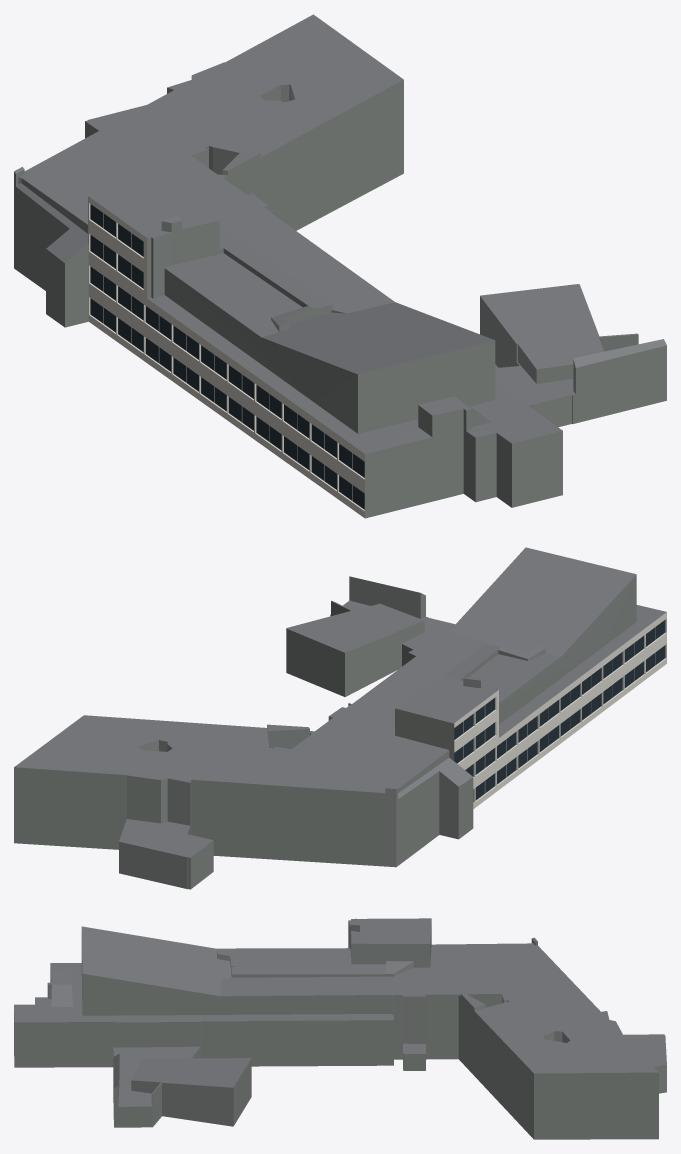
The model's file is recipe-large-reade.glb.
3 renders of one model, top to bottom at view 1: azimuth 30°, elevation 25°; view 2: azimuth 150°, elevation 25°; view 3: azimuth 270°, elevation 25°, orthographic. The views are drawn at different scales.
Parts seen in each view (by area): view 1: reade; view 2: reade; view 3: reade.
Part boxes in pixels (bbox=[...]): reade: bbox=[14, 14, 666, 518]; reade: bbox=[14, 547, 666, 889]; reade: bbox=[14, 918, 666, 1139].
Bounding box in the file's own units: 55.6 × 17.36 × 108.
